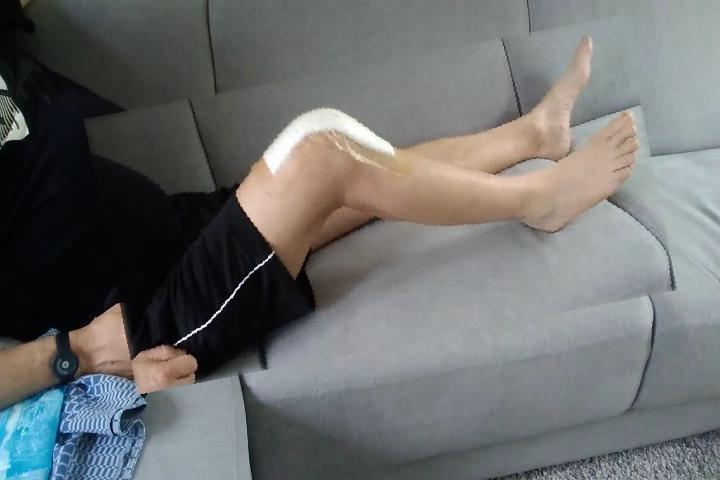lowerbody: (96, 40, 668, 371)
